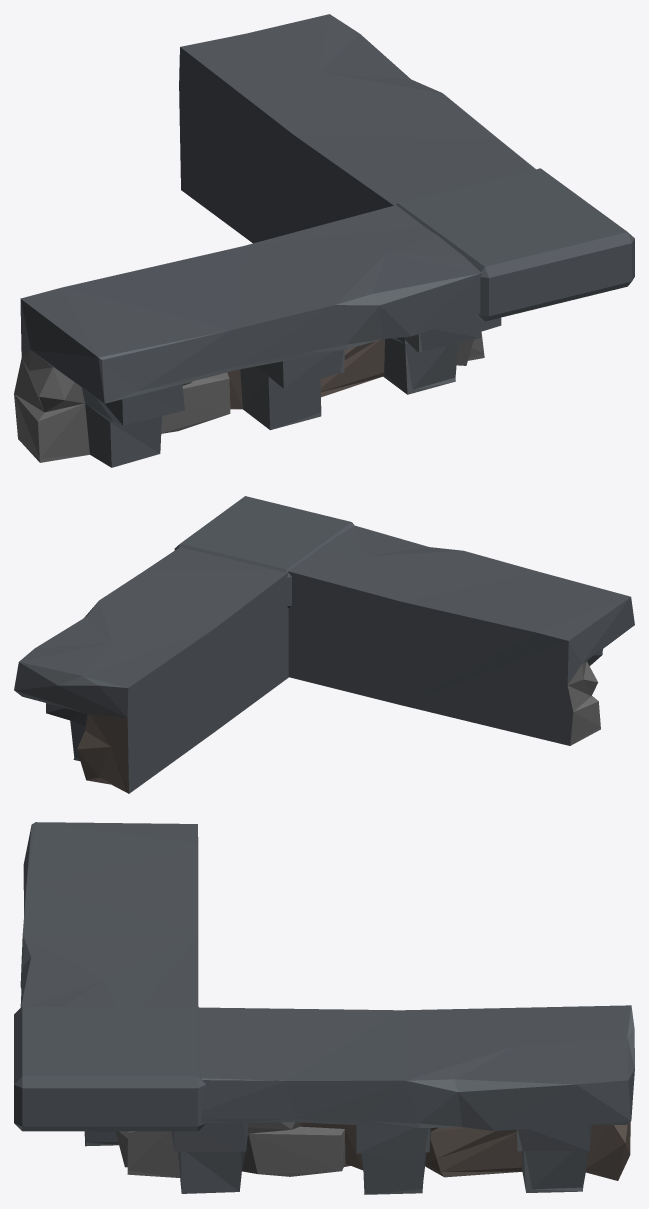
Rendered from MCastle_Masonry_Corbel_03.FBX.
The picture shows the model from 3 angles, top to bottom: view 1: azimuth 30°, elevation 25°; view 2: azimuth 150°, elevation 25°; view 3: azimuth 270°, elevation 25°; orthographic projection. The views are drawn at different scales.
Parts seen in each view (by area): view 1: MCastle_Masonry_Corbel_03_LOD0; view 2: MCastle_Masonry_Corbel_03_LOD0; view 3: MCastle_Masonry_Corbel_03_LOD0.
Boxes of the visible parts, x1=… form: MCastle_Masonry_Corbel_03_LOD0: x1=14, y1=14, x2=634, y2=467; MCastle_Masonry_Corbel_03_LOD0: x1=14, y1=496, x2=634, y2=793; MCastle_Masonry_Corbel_03_LOD0: x1=14, y1=822, x2=634, y2=1194.
Size of what is drawn, in the model's own units: 5.07 by 1.31 by 5.01.
